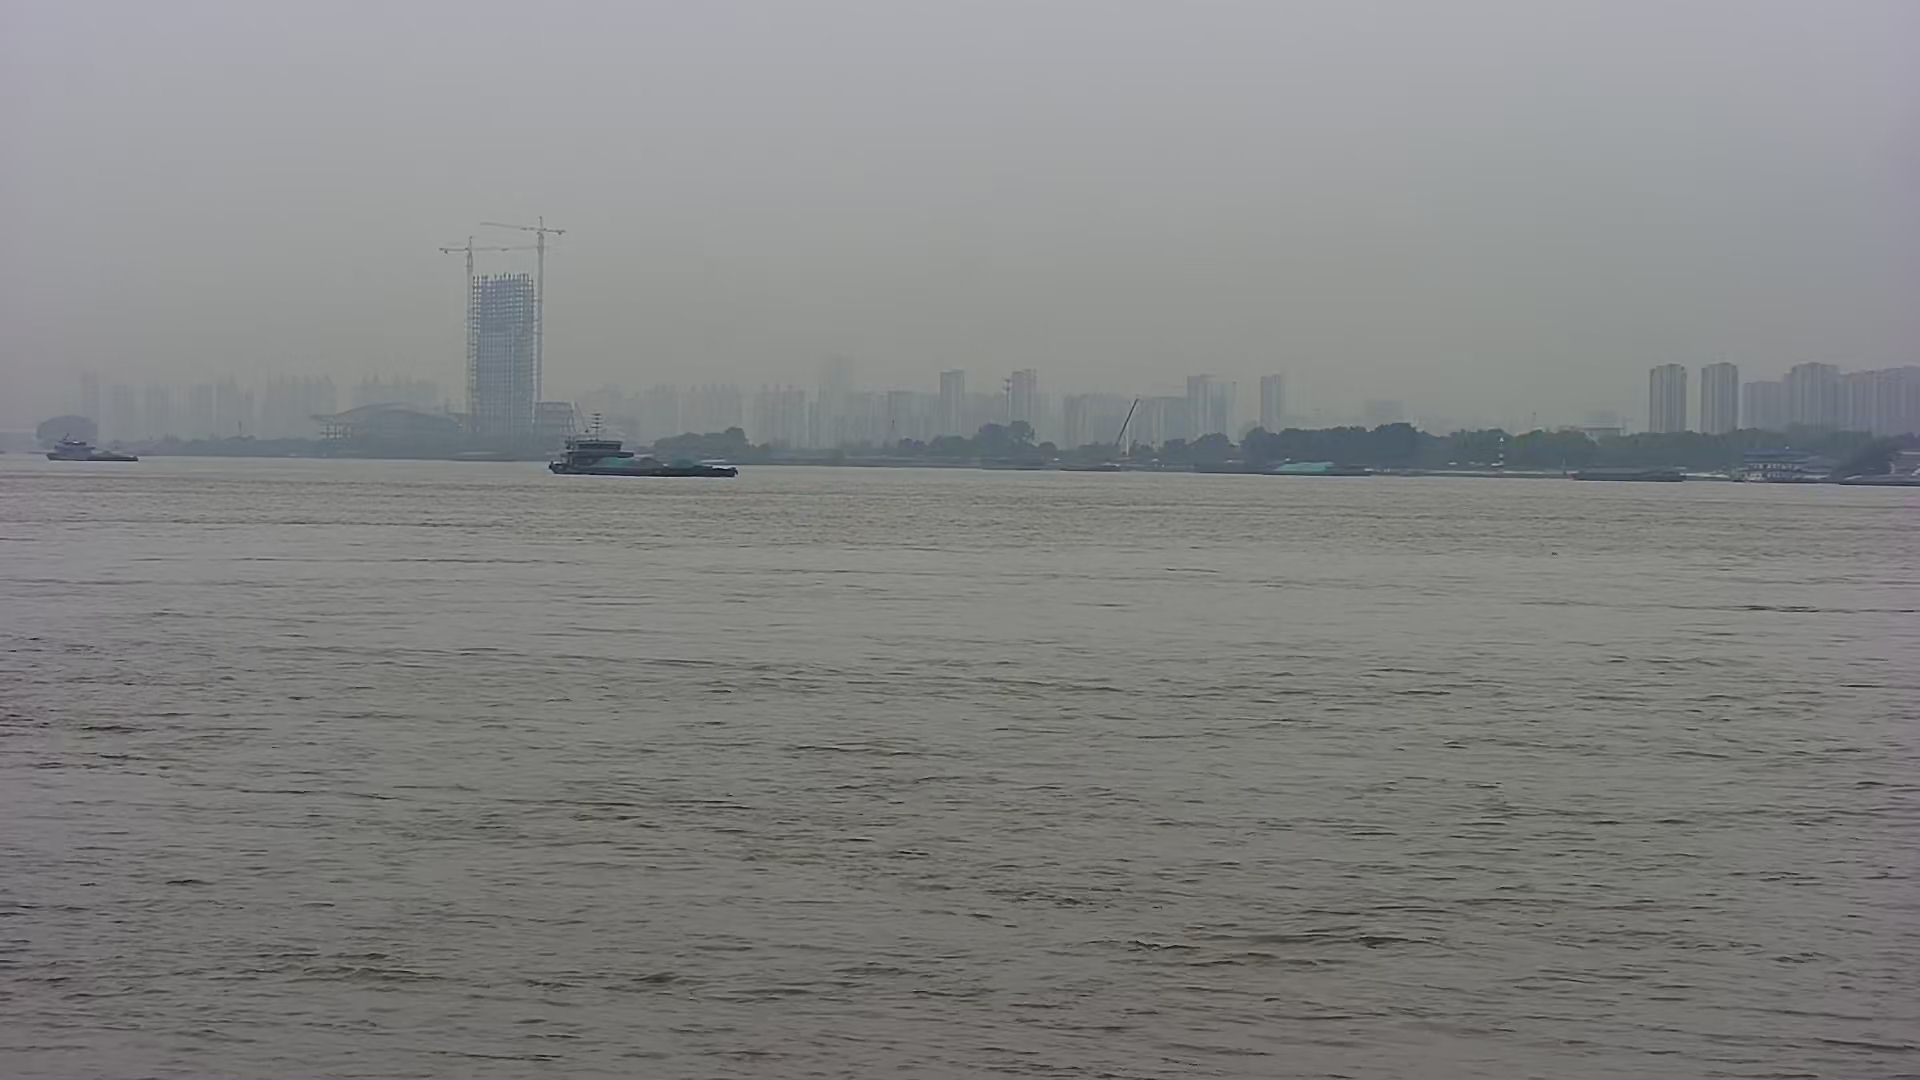ship: (541, 417, 757, 487), (37, 425, 160, 472)
